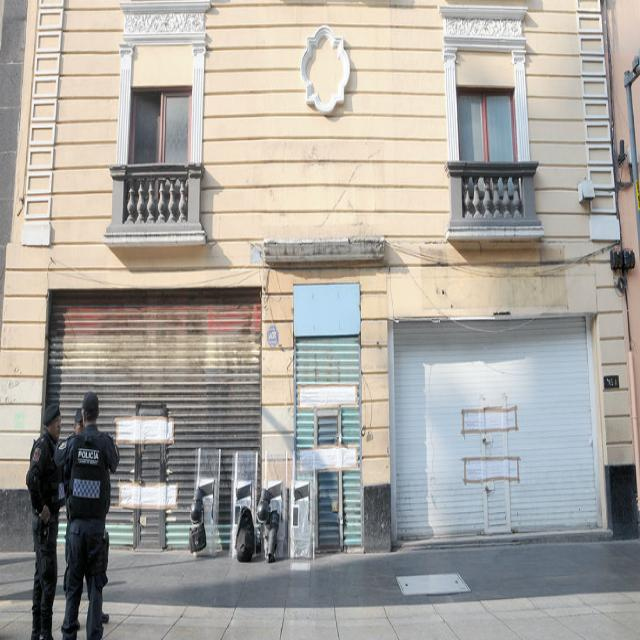stamps: (298, 445, 357, 473), (119, 483, 177, 508), (298, 386, 357, 410), (117, 419, 173, 443), (465, 459, 518, 481), (465, 411, 515, 429)
